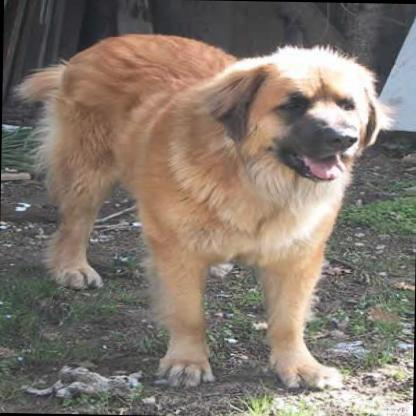Leonberg: (9, 27, 394, 393)
